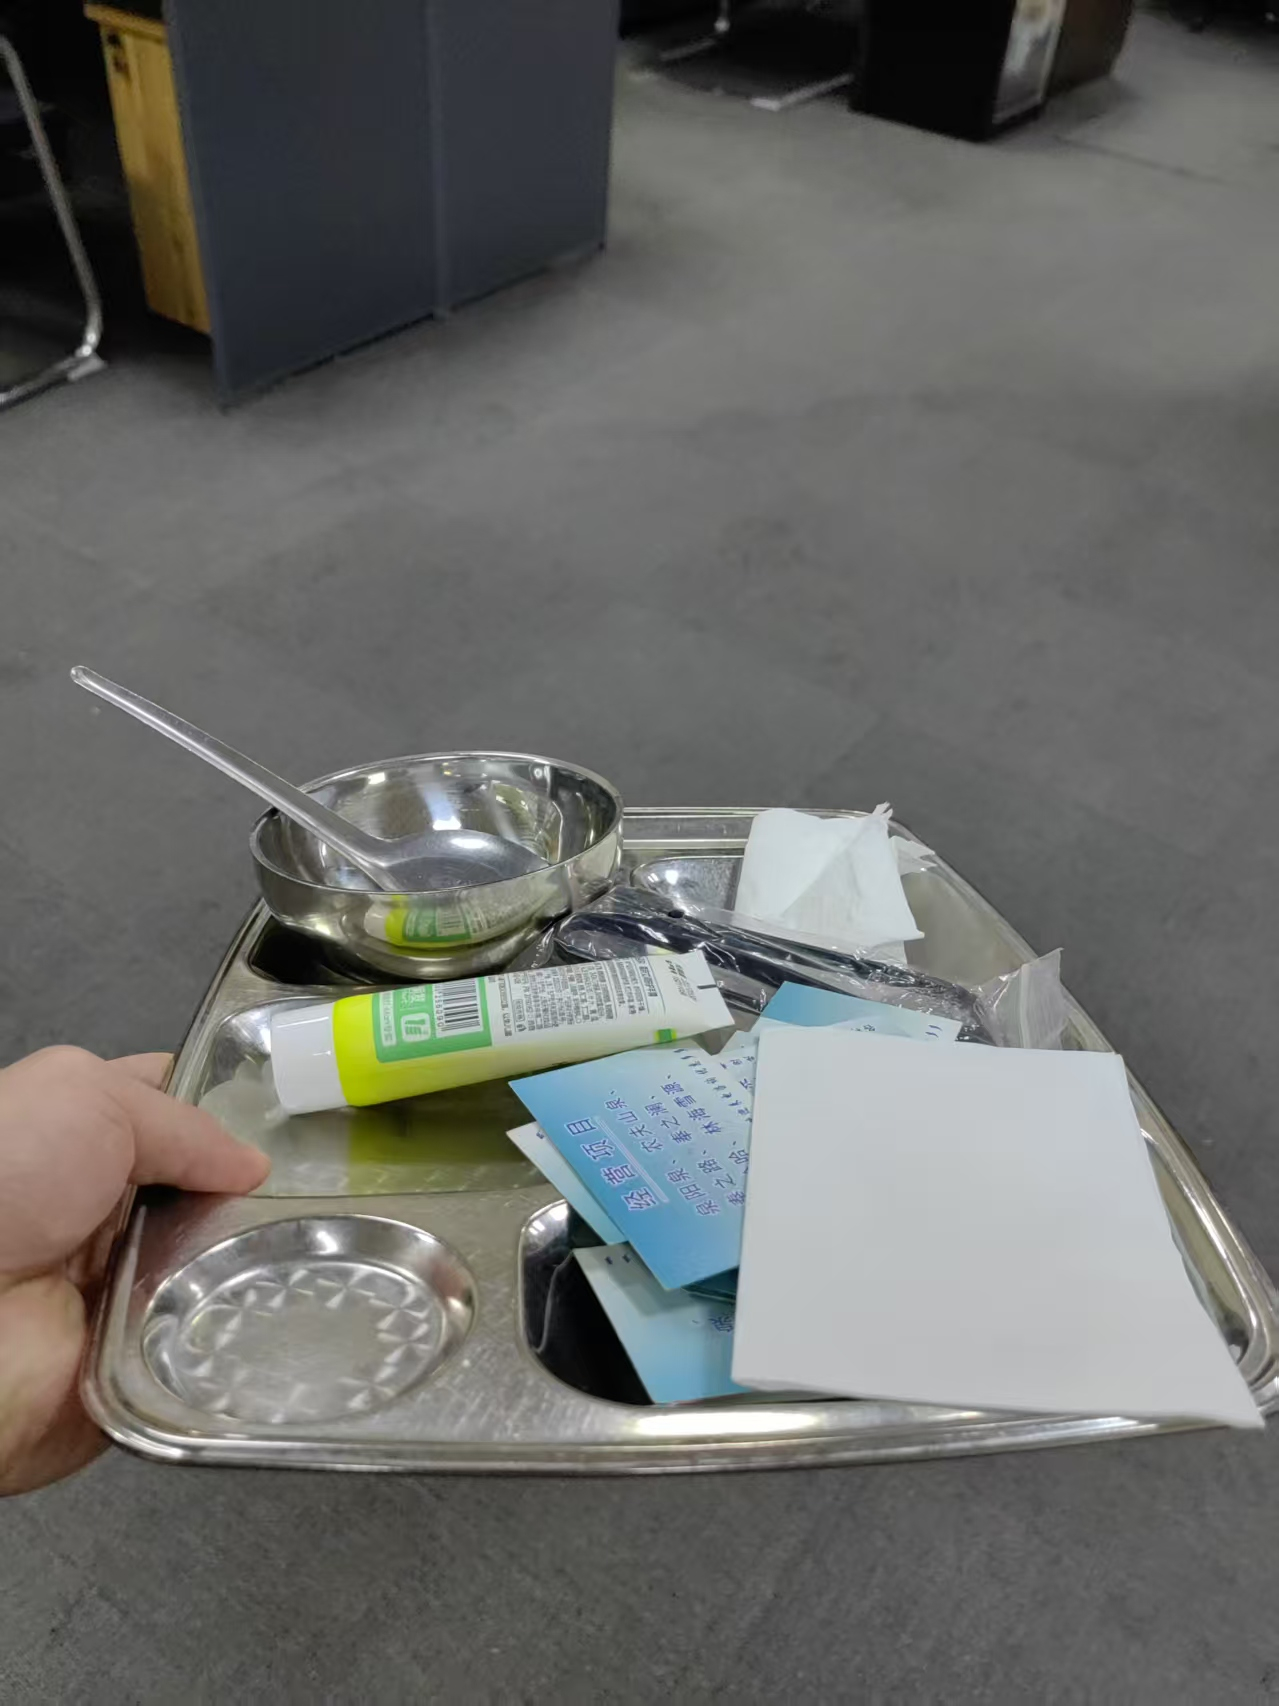moderate: (267, 875, 1062, 1411)
plate: (77, 803, 1279, 1480)
tissue: (731, 1018, 1279, 1431), (736, 803, 936, 967)
